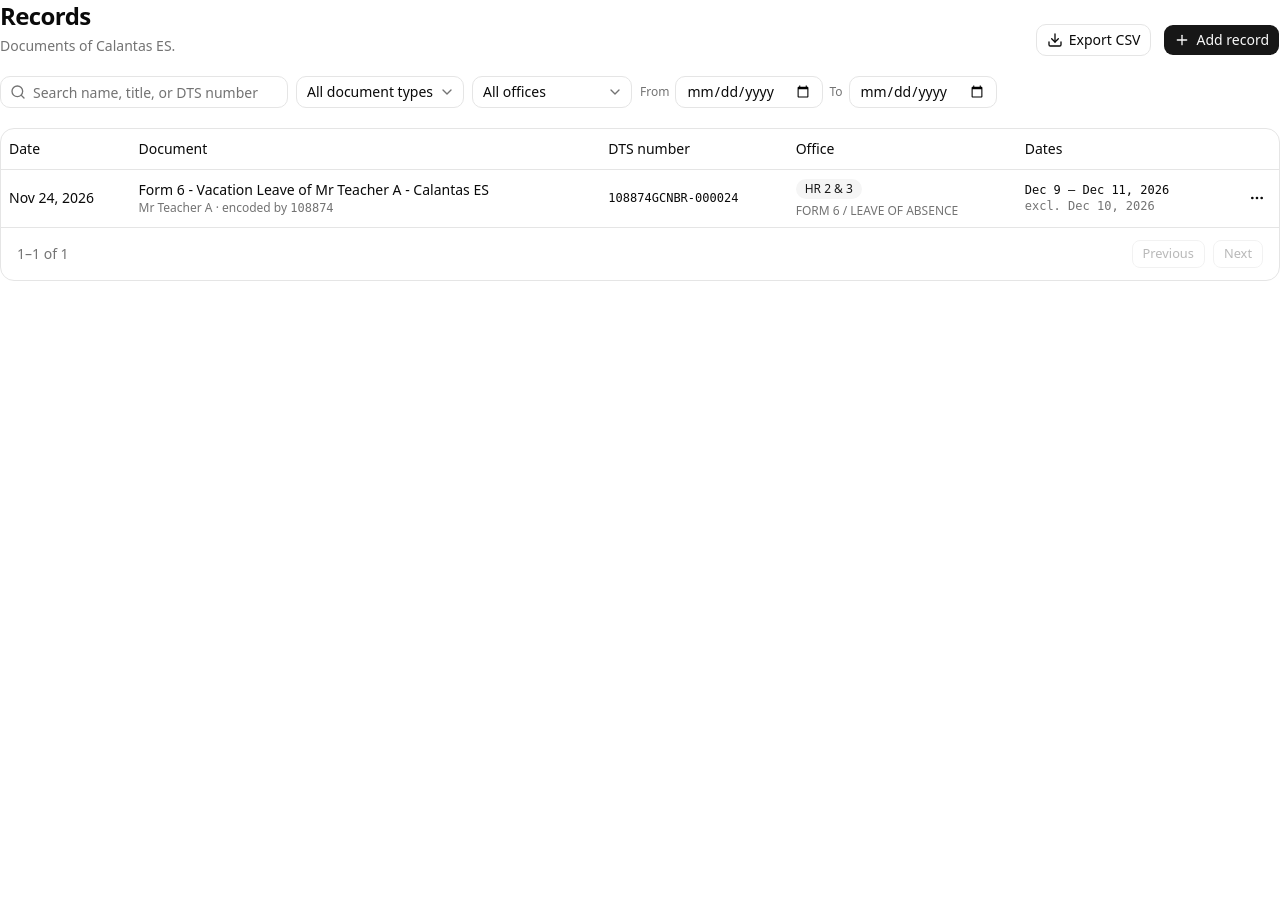
Test: RecordsPage › opens the routing slip with the DTS number when a row is clicked
This screenshot has width=1280, height=900.
Click the text "Form 6 - Vacation Leave of Mr Teacher A - Calantas ES" at (314, 190), box [139,180,489,199]
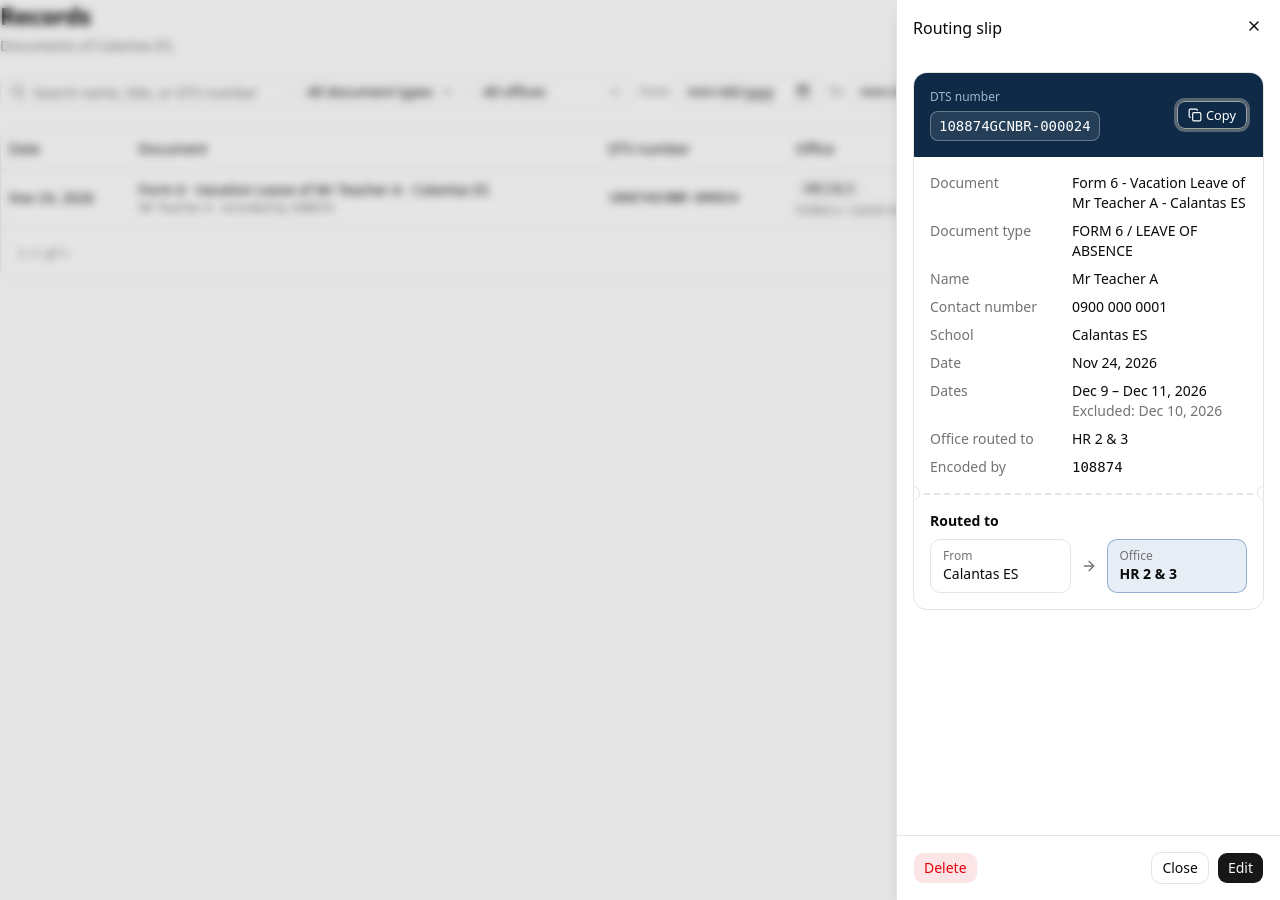
Check: the heading "Routing slip" is shown, box [913,17,1002,39]
Check: the text "108874GCNBR-000024" is shown, box [930,111,1100,141]
Check: the text "Mr Teacher A" is shown, box [1072,269,1158,288]
